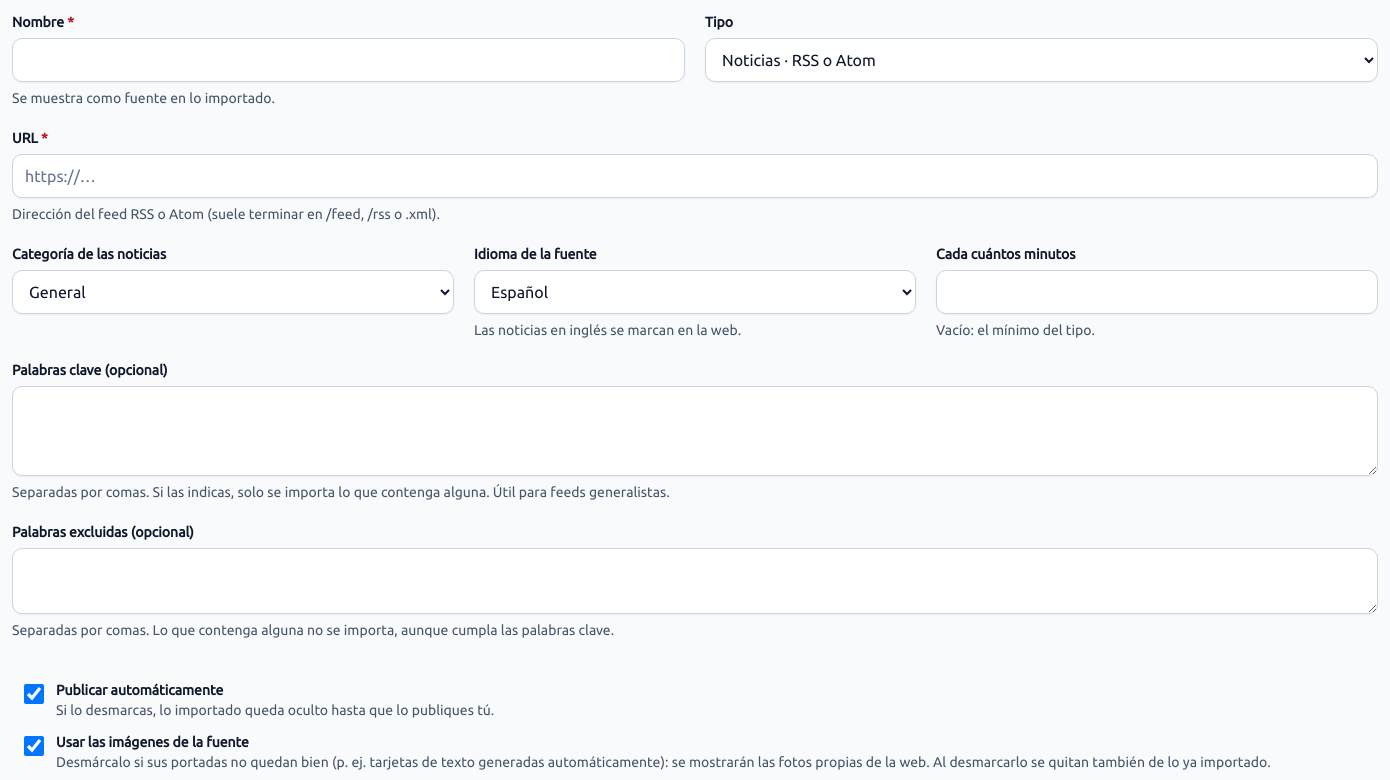
ImportSourceForm › ofrece Adzuna (España) y explica que las claves van en el servidor, no en la URL
Select "Empleo · Adzuna (España)" in the dropdown labelled "Tipo": (1042, 60) [705,38,1378,82]
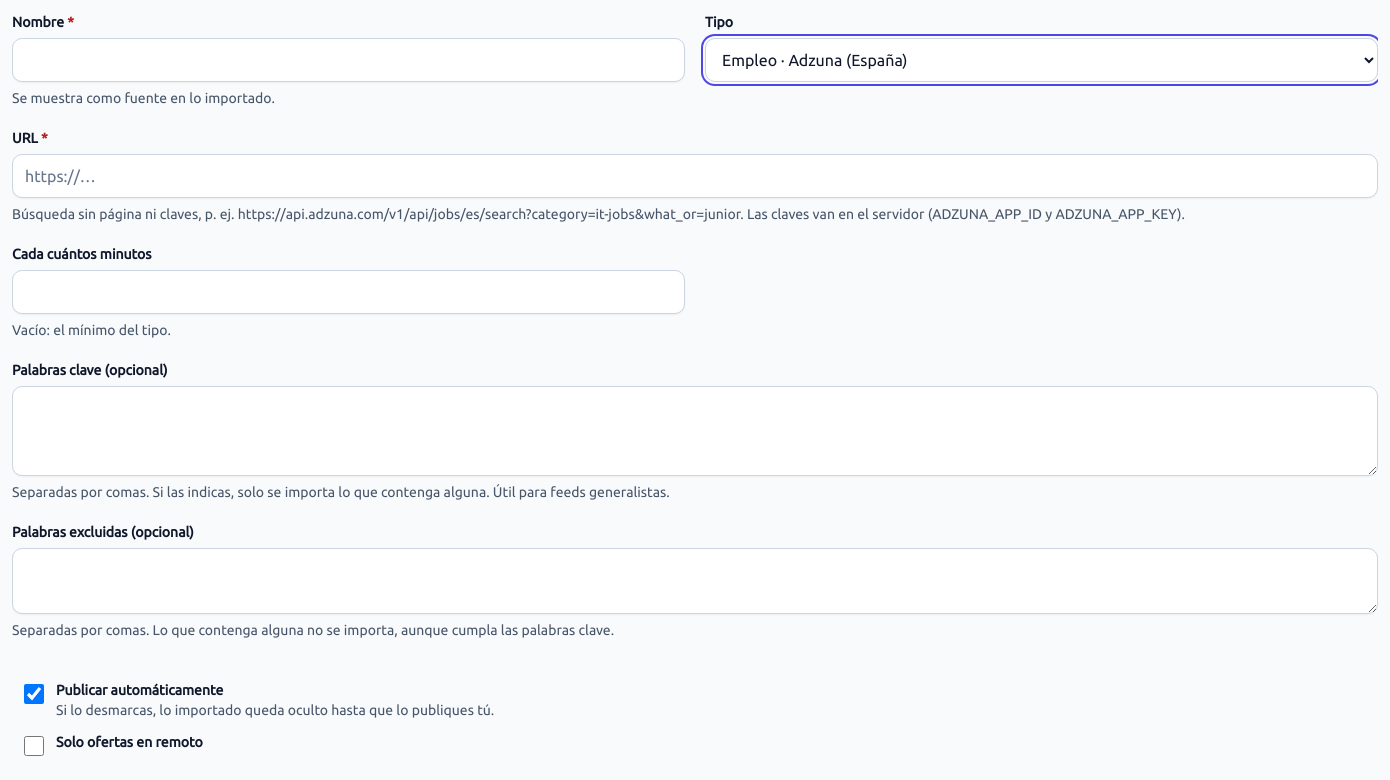
Check: the text "Las claves van en el servidor (ADZUNA_APP_ID y ADZUNA_APP_KEY)" is shown, box [12,206,1185,222]
